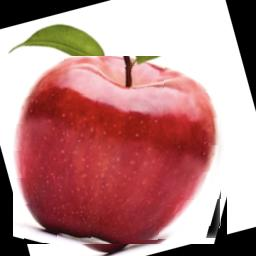Apple Fresh: (14, 56, 228, 244)
